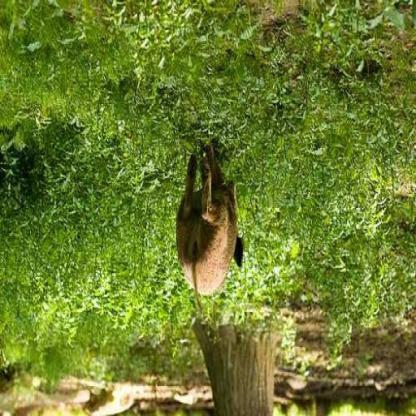boar: (117, 149, 260, 339)
